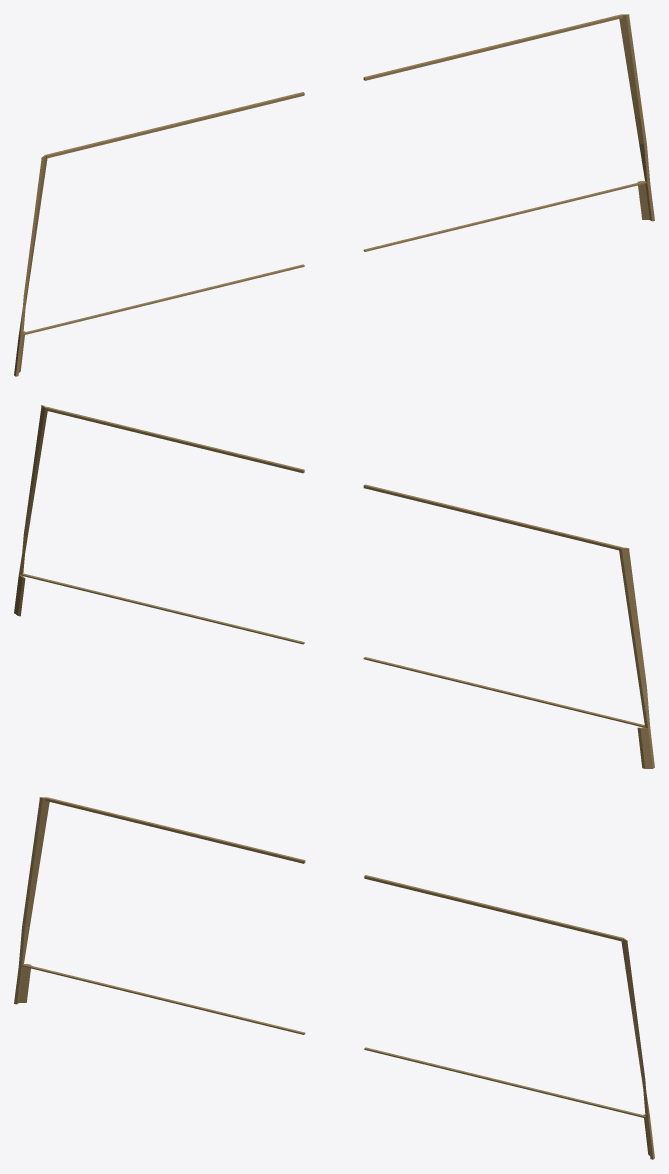
Rendered from G7_Completion_R004_G7C4_Fore_BodySeals.glb.
3 views of the same model, one above another, from view 1: azimuth 30°, elevation 25°; view 2: azimuth 150°, elevation 25°; view 3: azimuth 330°, elevation 25° (orthographic).
Visible parts, largest first — view 1: G7C4_Fore_BodySeals_solid_frame; view 2: G7C4_Fore_BodySeals_solid_frame; view 3: G7C4_Fore_BodySeals_solid_frame.
Part boxes in pixels (x1,y1,x2,y2): G7C4_Fore_BodySeals_solid_frame: (14,14,654,376); G7C4_Fore_BodySeals_solid_frame: (14,405,654,768); G7C4_Fore_BodySeals_solid_frame: (14,797,654,1159).
Size of the model in its own units: 144 by 45.84 by 1.5.
1 material, 1 textured.
